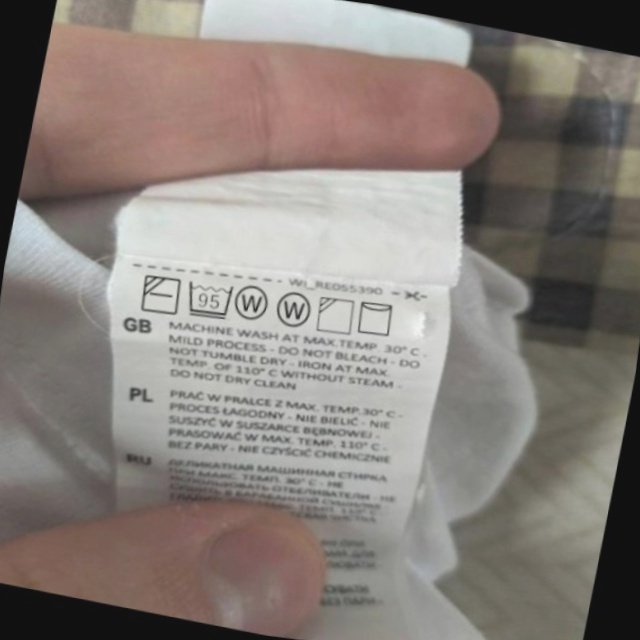95C: (180, 274, 239, 325)
dry_flat_in_shade: (135, 268, 186, 321)
line_dry: (351, 294, 401, 342)
shade_dry: (311, 291, 360, 340)
wet_clean: (230, 277, 276, 327), (271, 286, 317, 335)
